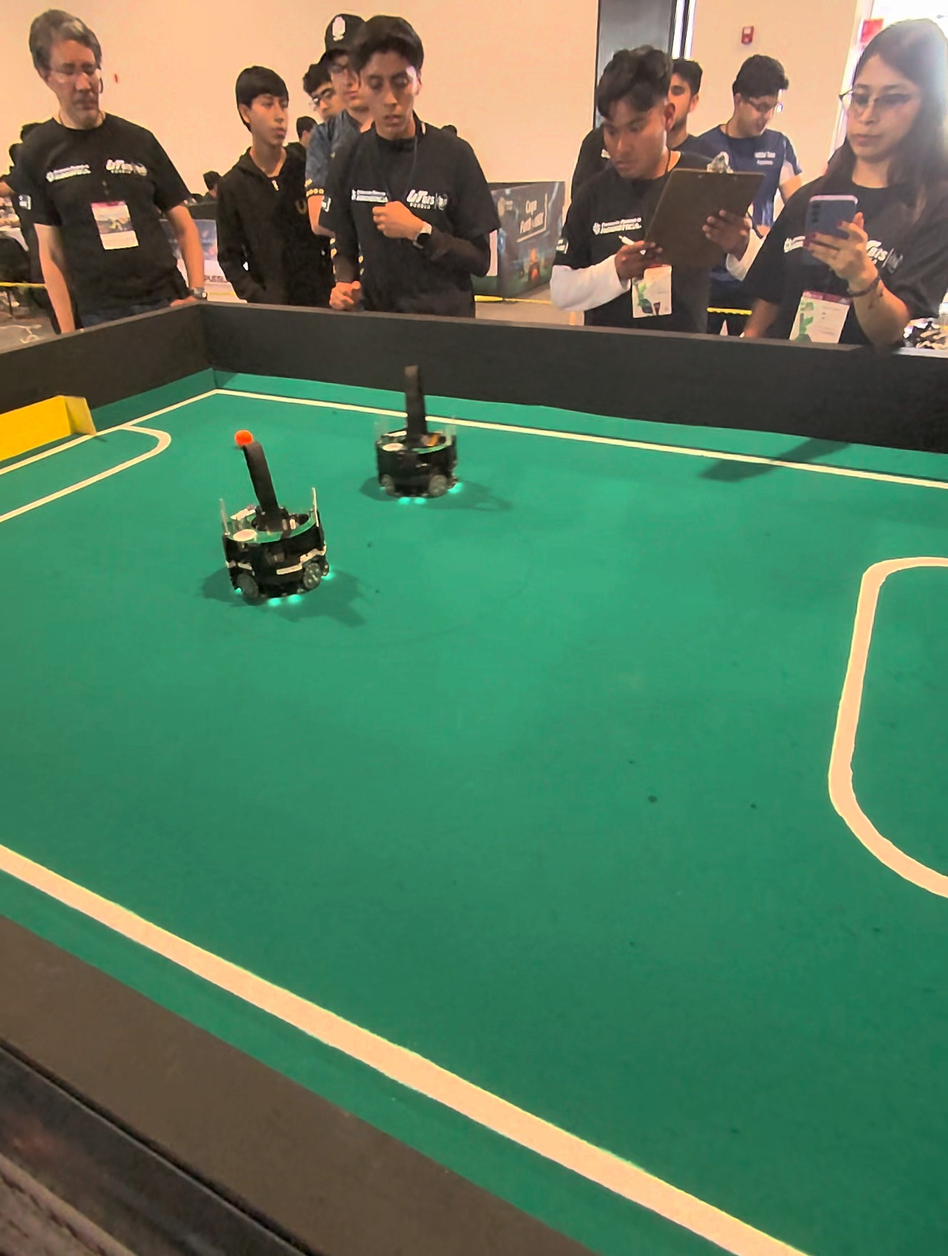Robot: (213, 433, 331, 616), (370, 360, 466, 517)
pelota: (224, 419, 259, 461)
